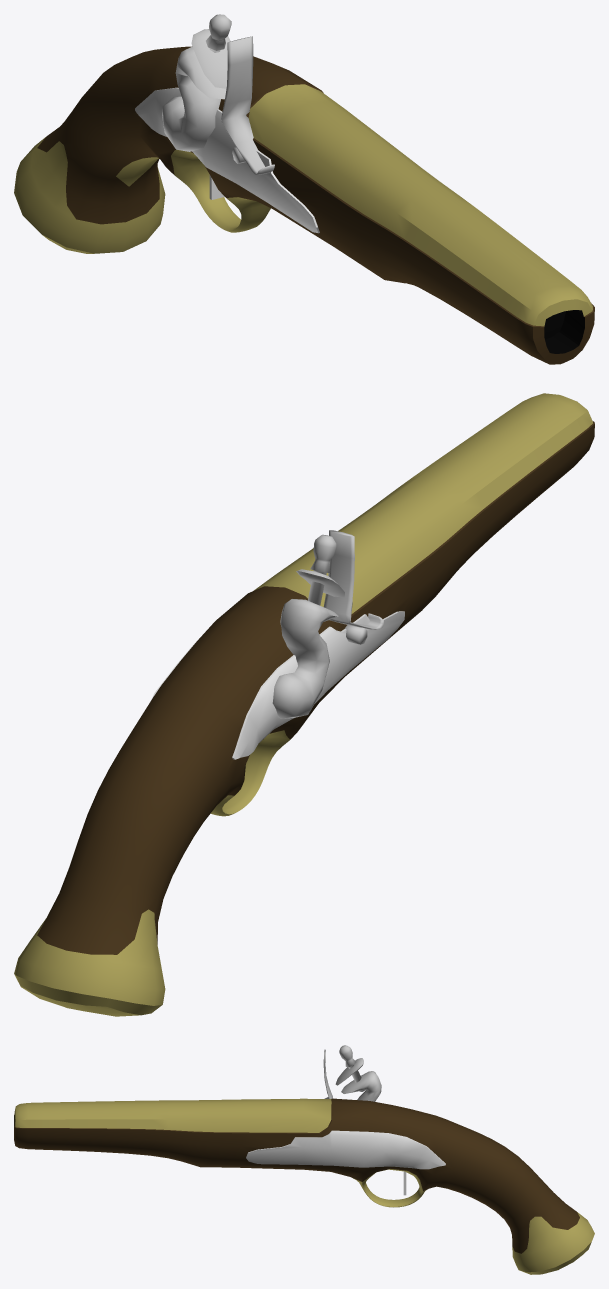
File: pistol.fbx
The picture shows the model from 3 angles, top to bottom: view 1: azimuth 30°, elevation 25°; view 2: azimuth 150°, elevation 25°; view 3: azimuth 270°, elevation 25°; orthographic projection. The views are drawn at different scales.
Parts seen in each view (by area): view 1: Cube; view 2: Cube; view 3: Cube.
Part boxes in pixels (<box>): Cube: <box>14,14,594,364</box>; Cube: <box>14,393,594,1016</box>; Cube: <box>14,1045,594,1274</box>.
Size of the model in its own units: 7.65 by 19.47 by 49.41.
